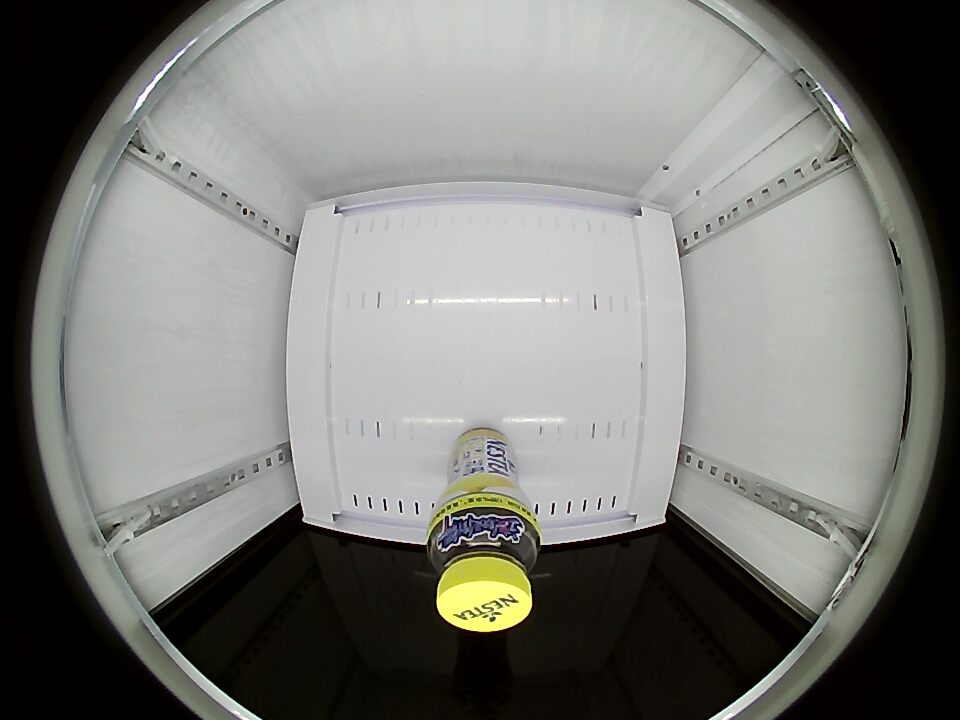chacui: (426, 494, 542, 632)
